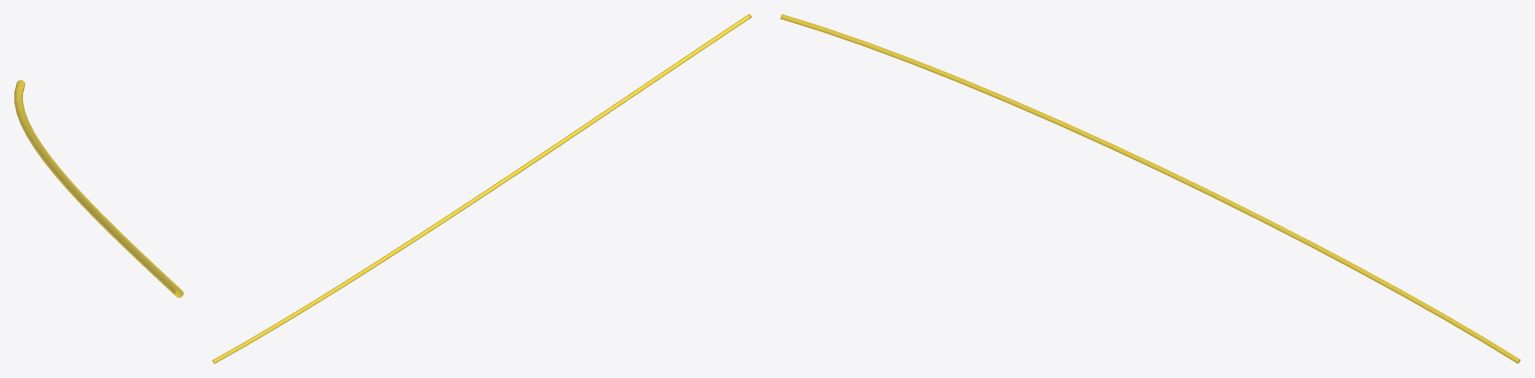
Rendered from Event_75125125_track_110.fbx.
The picture shows the model from 3 angles, left to right: view 1: azimuth 90°, elevation 25°; view 2: azimuth 210°, elevation 25°; view 3: azimuth 330°, elevation 25°; orthographic projection. The views are drawn at different scales.
Visible parts, largest first — view 1: Model; view 2: Model; view 3: Model.
Part boxes in pixels (x1,y1,x2,y2): Model: [14, 80, 183, 297]; Model: [212, 14, 751, 363]; Model: [780, 14, 1520, 363].
Size of the model in its own units: 6.01 by 1.8 by 0.7643.
